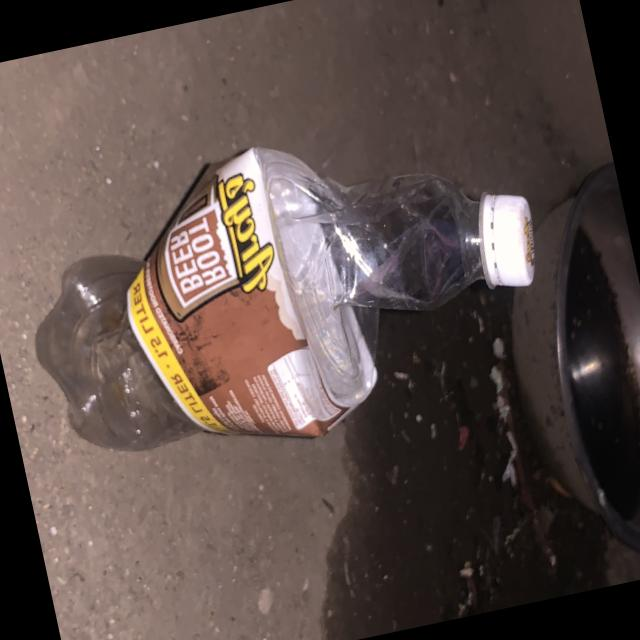Bottle: (37, 148, 535, 450)
